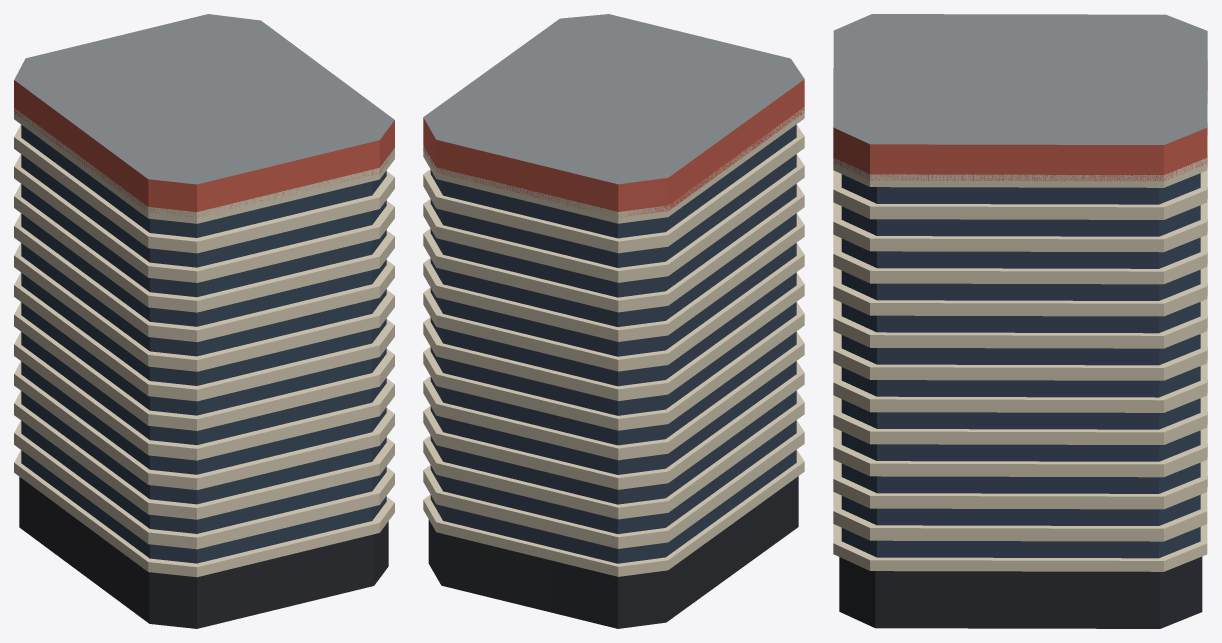
The model's file is maverik_base_camp.glb.
3 views of the same model, side by side, from view 1: azimuth 30°, elevation 25°; view 2: azimuth 150°, elevation 25°; view 3: azimuth 270°, elevation 25° (orthographic). The views are drawn at different scales.
Parts seen in each view (by area): view 1: Maverik_Base_Camp; view 2: Maverik_Base_Camp; view 3: Maverik_Base_Camp.
Boxes of the visible parts, x1,y1,x2,y2 form: Maverik_Base_Camp: [14, 14, 394, 628]; Maverik_Base_Camp: [423, 14, 804, 628]; Maverik_Base_Camp: [833, 14, 1207, 628].
Bounding box in the file's own units: 30.9 × 53.4 × 37.3.
